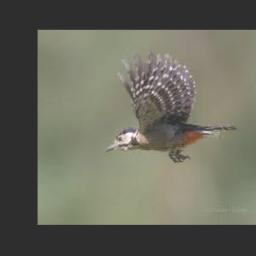Woodpecker: (100, 53, 236, 162)
